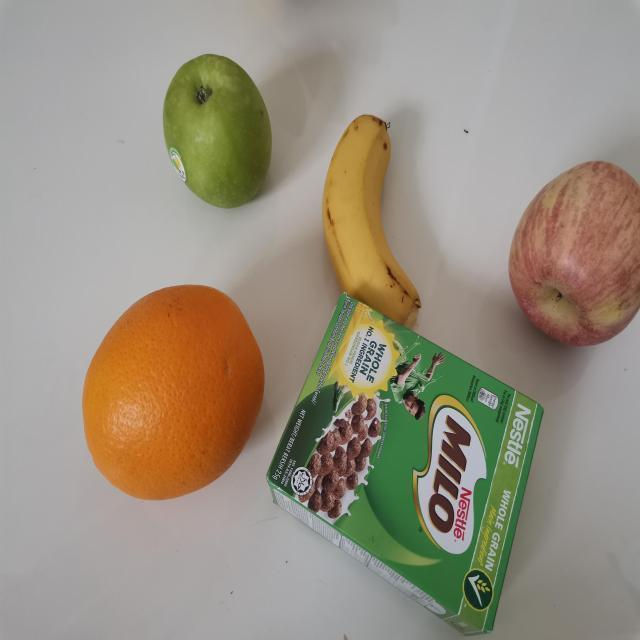Apple: (508, 159, 640, 352), (160, 49, 275, 208)
Banana: (320, 114, 423, 333)
Cerealbox: (263, 291, 542, 639)
Orange: (79, 281, 270, 504)
